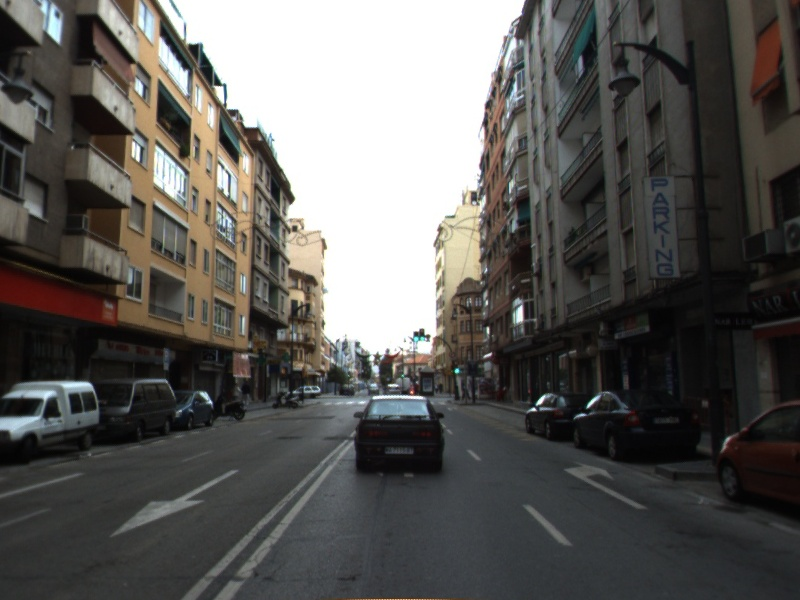RIGHT: (562, 460, 649, 510)
